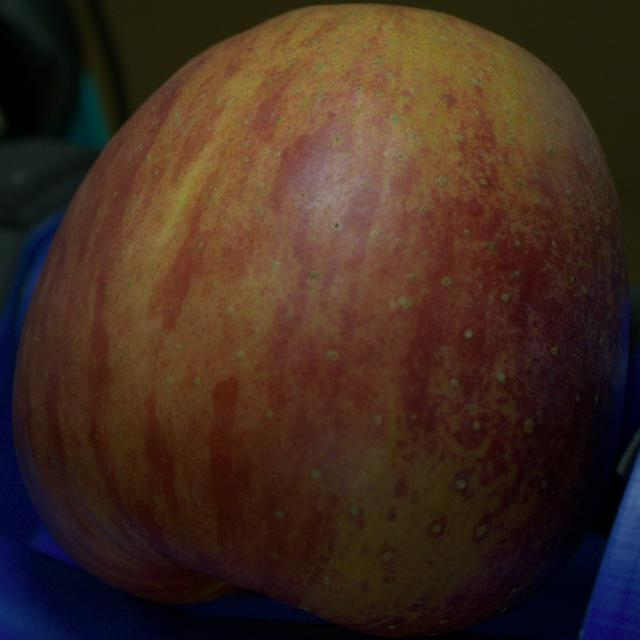apple: (12, 6, 629, 636)
